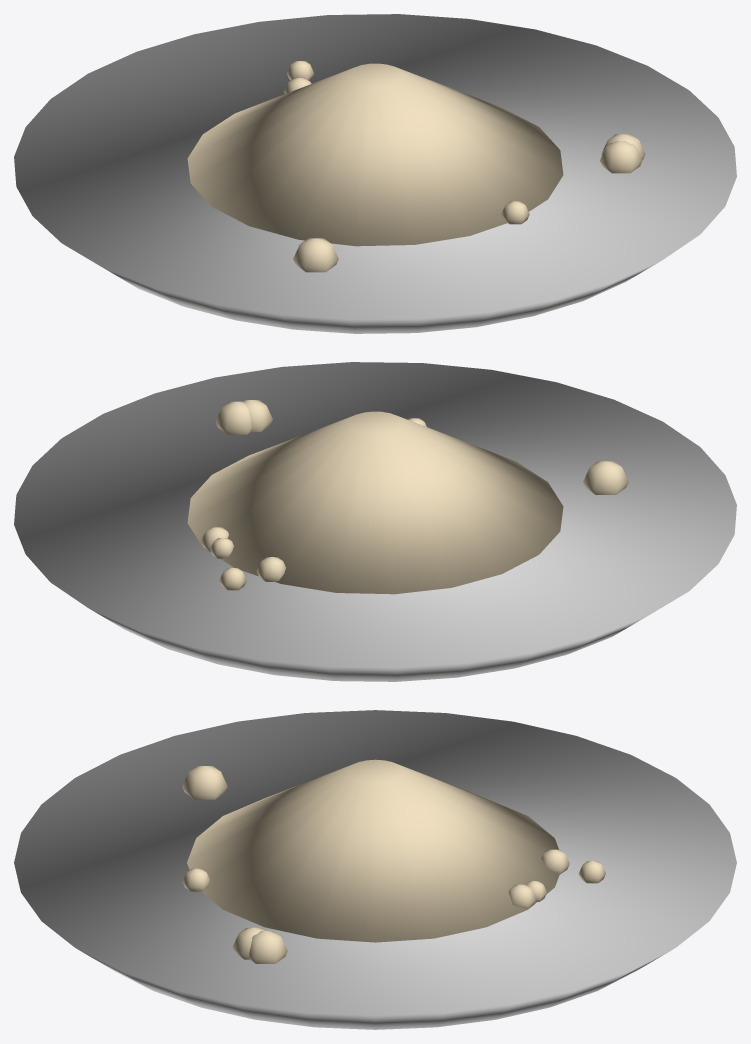
Rendered from sample_sand.glb.
3 renders of one model, top to bottom at view 1: azimuth 30°, elevation 25°; view 2: azimuth 150°, elevation 25°; view 3: azimuth 270°, elevation 25°, orthographic.
Visible parts, largest first — view 1: saucer, sand, sand_grain7, sand_grain2, sand_grain6; view 2: saucer, sand, sand_grain7, sand_grain5, sand_grain2, sand_grain0; view 3: saucer, sand, sand_grain7, sand_grain5, sand_grain1, sand_grain2.
Boxes of the visible parts, x1,y1,x2,y2 form: saucer: [14, 14, 736, 333]; sand: [187, 63, 563, 246]; sand_grain7: [293, 238, 338, 272]; sand_grain2: [600, 141, 642, 173]; sand_grain6: [501, 201, 529, 224]; saucer: [14, 362, 736, 681]; sand: [187, 411, 563, 594]; sand_grain7: [583, 461, 628, 494]; sand_grain5: [215, 401, 251, 434]; sand_grain2: [242, 400, 272, 431]; sand_grain0: [256, 557, 285, 581]; saucer: [14, 710, 736, 1029]; sand: [187, 759, 559, 942]; sand_grain7: [182, 766, 227, 799]; sand_grain5: [249, 931, 287, 963]; sand_grain1: [508, 884, 536, 908]; sand_grain2: [232, 927, 265, 959].
Size of the model in its own units: 0.115 by 0.022 by 0.115.
